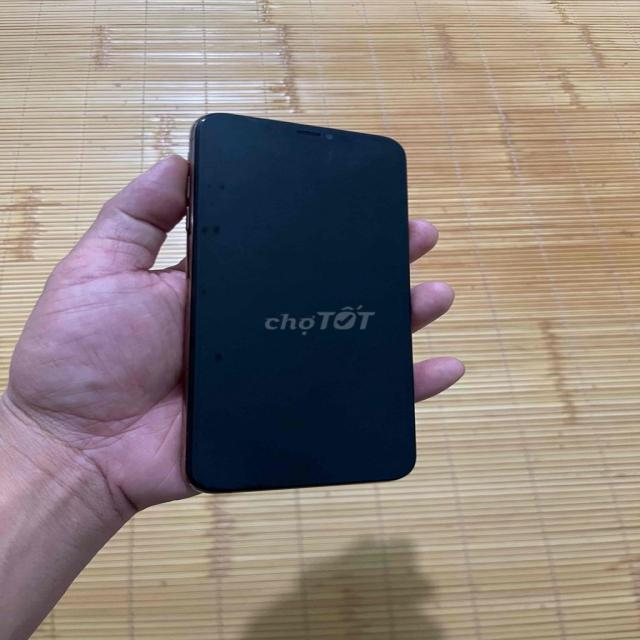gen_x_xs: (162, 108, 445, 522)
